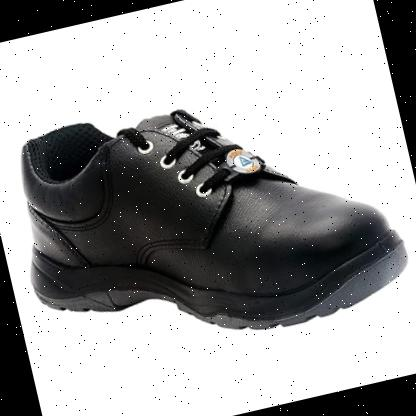bota: (0, 52, 416, 384)
